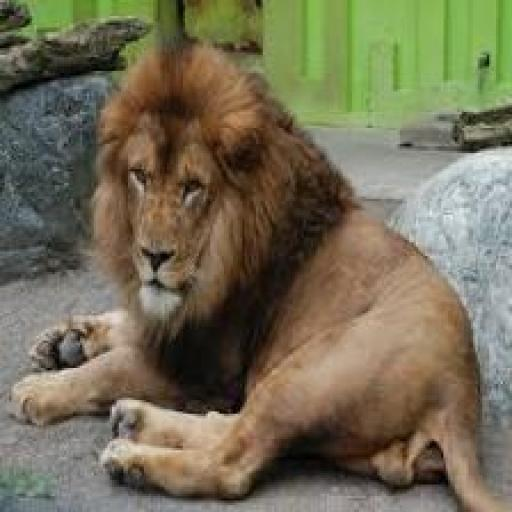lion: (14, 30, 503, 502)
